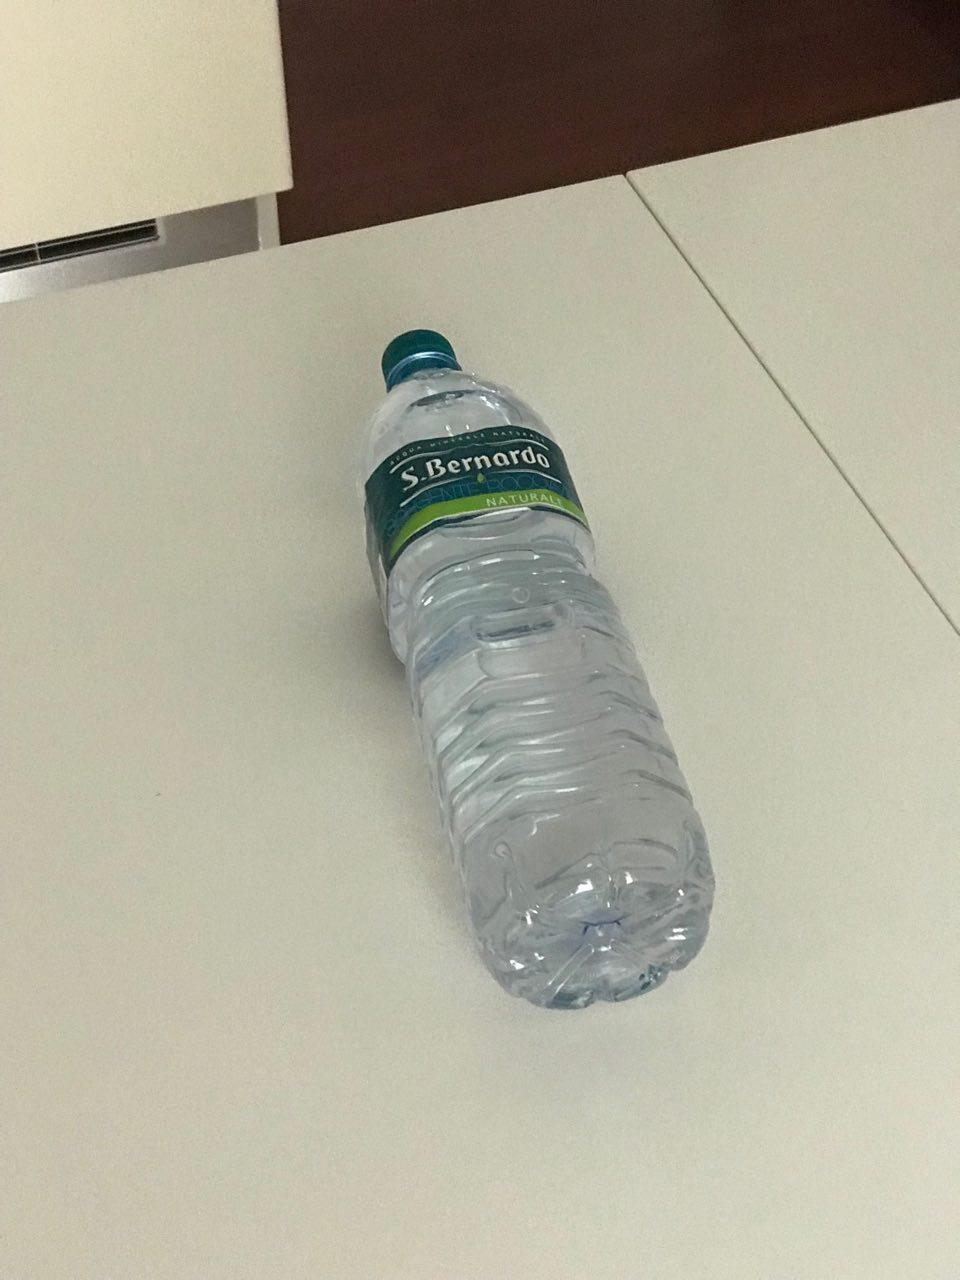san_bernardo: (356, 328, 716, 1009)
